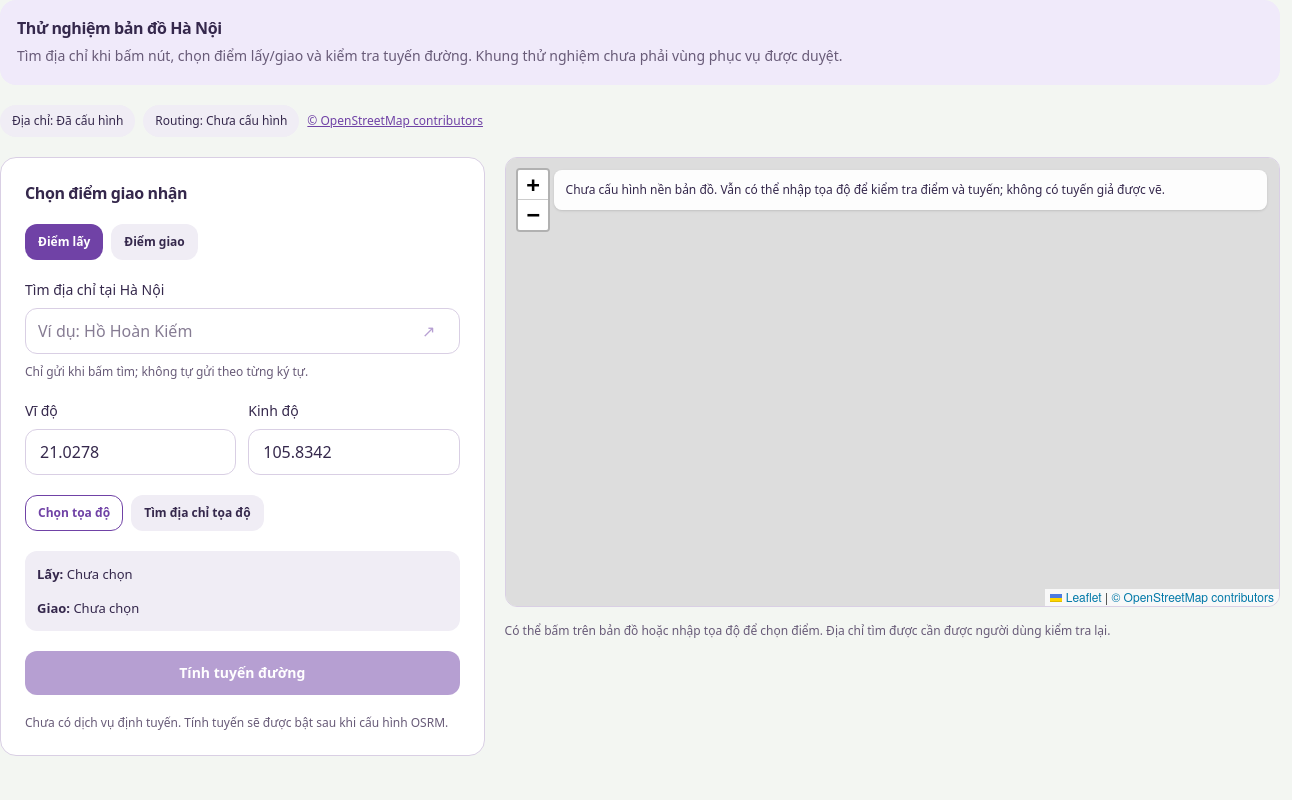
Scenario: map playground behavior › keeps the chosen pin when reverse geocoding returns a nearby address
Check: the field labelled "Vĩ độ" is shown, box [25,429,236,475]
Click the button "Tìm địa chỉ tọa độ".
click(197, 513)  # box [131,495,264,531]
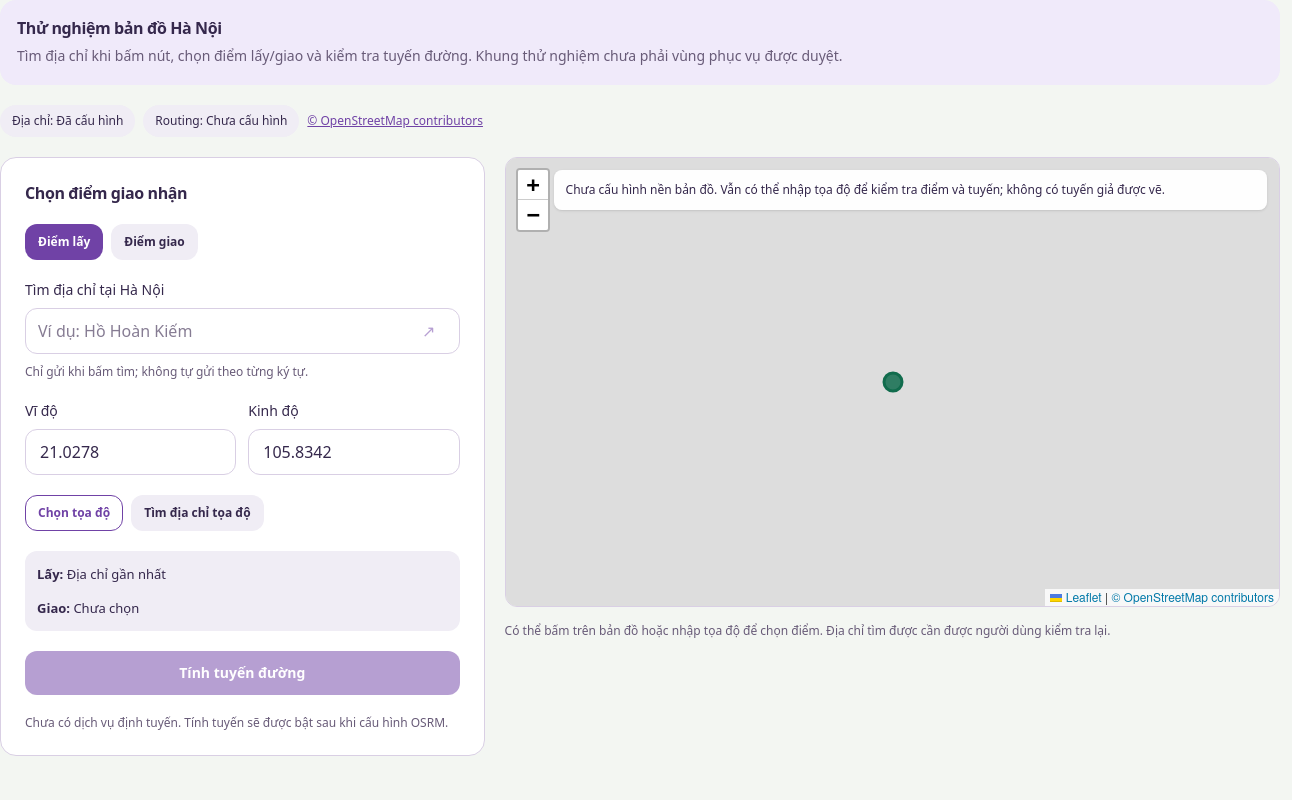
Check: the field labelled "Kinh độ" holds "105.8342", box [248,429,460,475]
Check: the text "Địa chỉ gần nhất" is shown, box [67,565,166,583]
